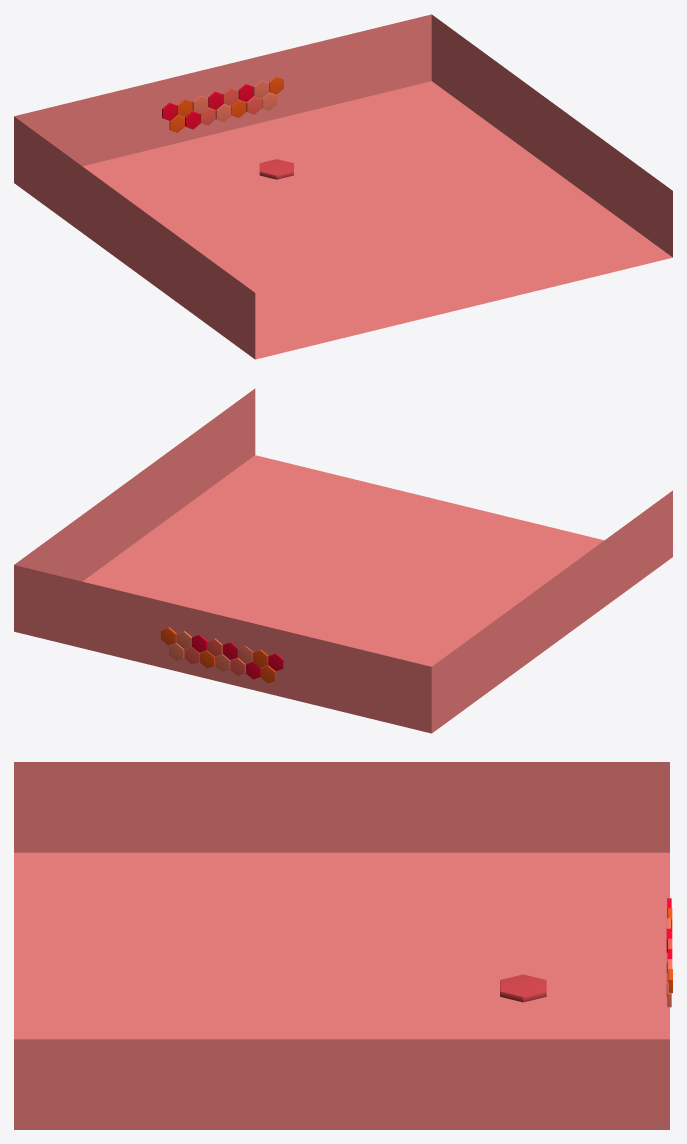
File: uploads_files_3476200_Podium+2.fbx
The picture shows the model from 3 angles, top to bottom: view 1: azimuth 30°, elevation 25°; view 2: azimuth 150°, elevation 25°; view 3: azimuth 270°, elevation 25°; orthographic projection. The views are drawn at different scales.
Parts seen in each view (by area): view 1: Plane, Circle; view 2: Plane; view 3: Plane, Circle.
Part boxes in pixels (x1=…): Plane: x1=14, y1=14, x2=672, y2=359; Circle: x1=259, y1=159, x2=293, y2=179; Plane: x1=14, y1=388, x2=672, y2=733; Plane: x1=14, y1=762, x2=669, y2=1129; Circle: x1=500, y1=974, x2=546, y2=1002.
Size of the model in its own units: 6550 by 1000 by 6581.
